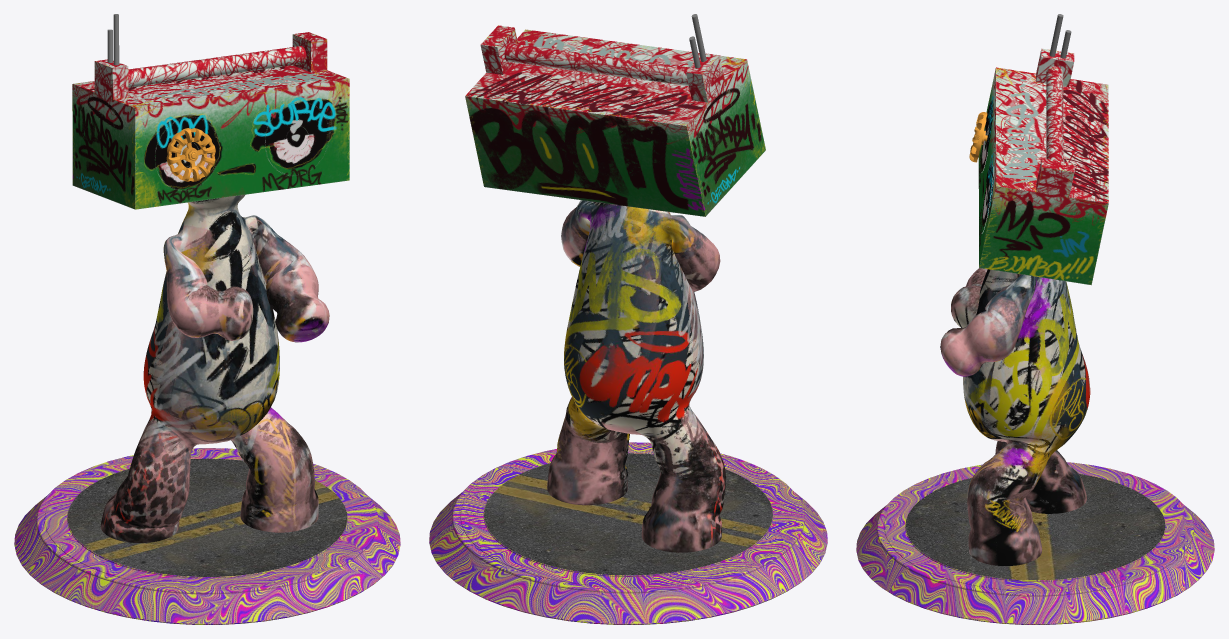
File: 181_sanitized.glb
3 renders of one model, left to right at view 1: azimuth 30°, elevation 25°; view 2: azimuth 150°, elevation 25°; view 3: azimuth 270°, elevation 25°, orthographic. The views are drawn at different scales.
Visible parts, largest first — view 1: BBody; view 2: BBody; view 3: BBody.
Boxes of the visible parts, bbox=[...] form: BBody: bbox=[14, 14, 400, 624]; BBody: bbox=[429, 14, 827, 624]; BBody: bbox=[856, 14, 1214, 624].
Size of the model in its own units: 1.45 by 2.23 by 1.45.
Materials: 6 (5 with a texture image).
